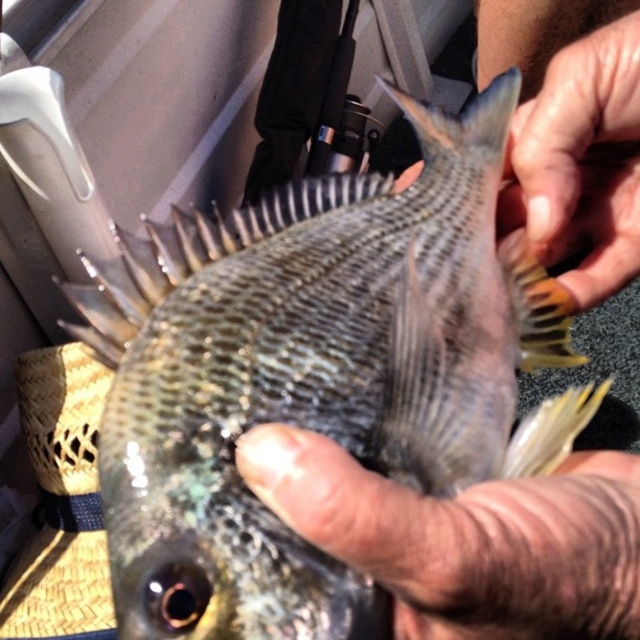Fish: (47, 66, 615, 640)
